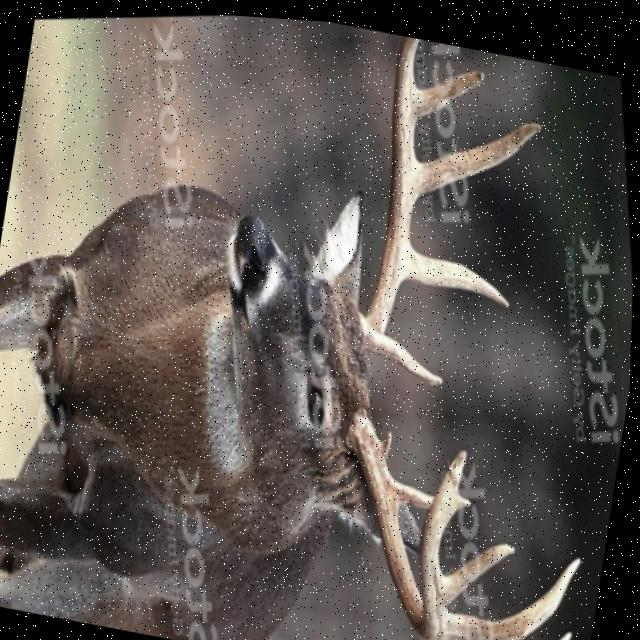E1: (383, 424, 394, 453)
E2: (457, 487, 474, 505)
L-G1: (360, 307, 446, 380)
L-G2: (403, 236, 512, 301)
L-G3: (415, 114, 543, 192)
L-G4: (413, 62, 485, 119)
R-F: (348, 403, 469, 640)
R-G3: (446, 548, 584, 640)
R-G4: (443, 535, 519, 602)
